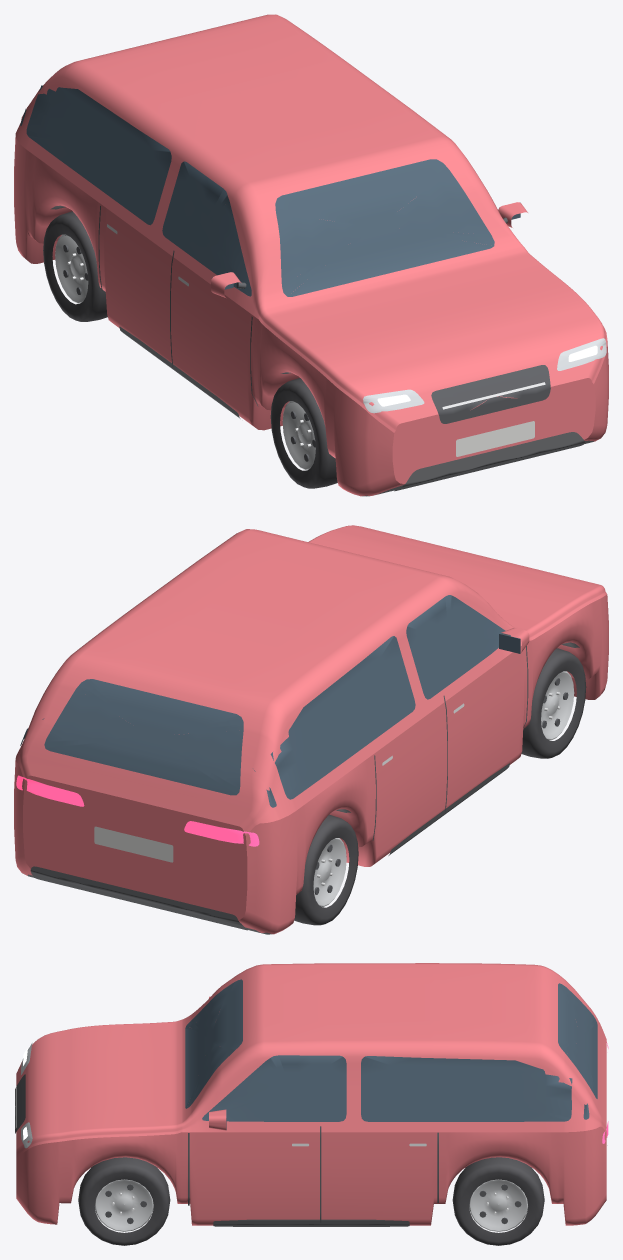
File: car-hatchback.glb
The picture shows the model from 3 angles, top to bottom: view 1: azimuth 30°, elevation 25°; view 2: azimuth 150°, elevation 25°; view 3: azimuth 270°, elevation 25°; orthographic projection. The views are drawn at different scales.
Visible parts, largest first — view 1: car-hatchback; view 2: car-hatchback; view 3: car-hatchback.
Part boxes in pixels (x1=…): car-hatchback: x1=14, y1=14, x2=608, y2=496; car-hatchback: x1=14, y1=525, x2=608, y2=934; car-hatchback: x1=15, y1=963, x2=608, y2=1245.
Bounding box in the file's own units: 2.05 × 1.48 × 4.13.
